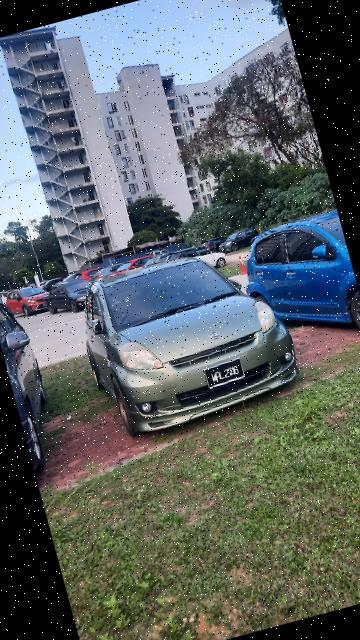License_Plate: (200, 356, 249, 391)
car: (67, 231, 311, 447)
